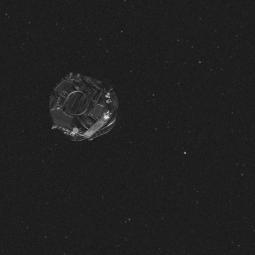lisa_pathfinder: (39, 63, 130, 146)
